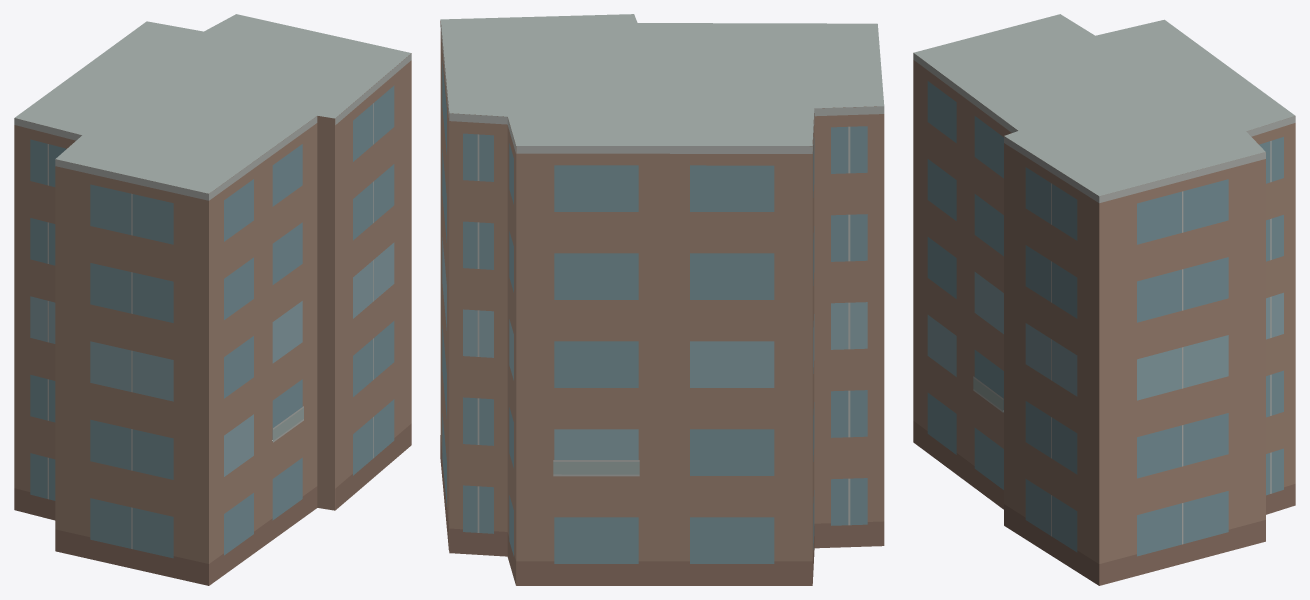
File: survey-upis-32862817.glb
3 views of the same model, side by side, from view 1: azimuth 30°, elevation 25°; view 2: azimuth 150°, elevation 25°; view 3: azimuth 270°, elevation 25° (orthographic). The views are drawn at different scales.
Visible parts, largest first — view 1: survey-upis-32862817.tmp; view 2: survey-upis-32862817.tmp; view 3: survey-upis-32862817.tmp.
Boxes of the visible parts, left/top/right/bottom form: survey-upis-32862817.tmp: left=14, top=14, right=411, bottom=585; survey-upis-32862817.tmp: left=440, top=14, right=884, bottom=585; survey-upis-32862817.tmp: left=913, top=14, right=1295, bottom=585.
Bounding box in the file's own units: 13.7 × 13.65 × 12.14.
